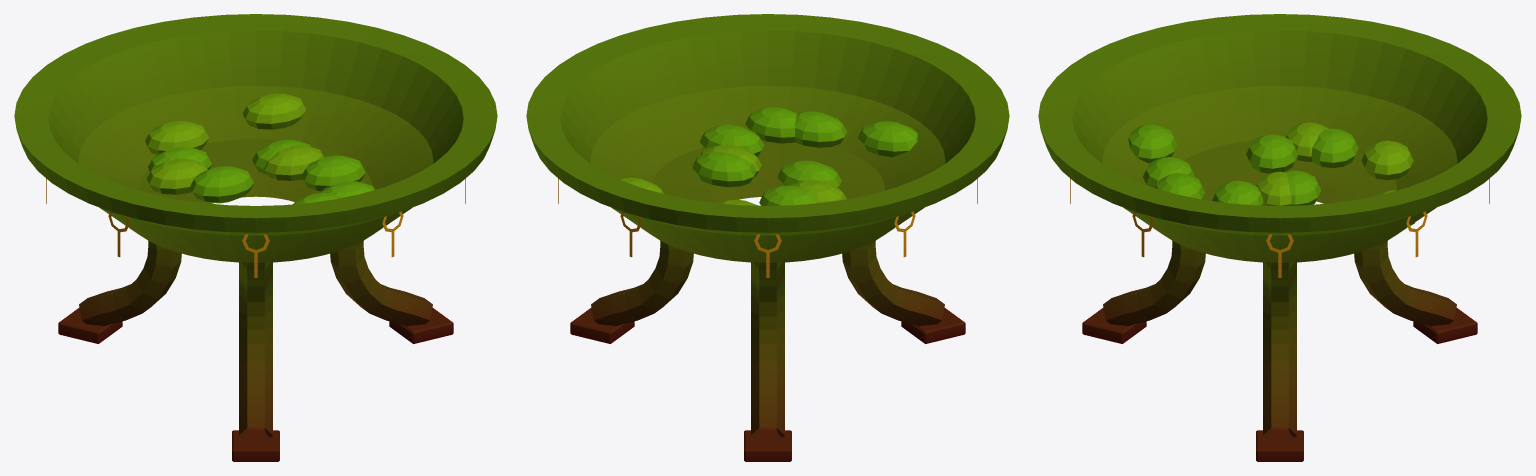
The model's file is brazier.glb.
3 renders of one model, left to right at view 1: azimuth 30°, elevation 25°; view 2: azimuth 150°, elevation 25°; view 3: azimuth 270°, elevation 25°, orthographic.
Visible parts, largest first — view 1: brazier; view 2: brazier; view 3: brazier.
Boxes of the visible parts, box(x1,y1,x2,y2) form: brazier: box(14, 14, 497, 461); brazier: box(526, 14, 1009, 461); brazier: box(1038, 14, 1521, 461).
Size of what is drawn, in the model's own units: 2.4 by 1.4 by 2.4.
